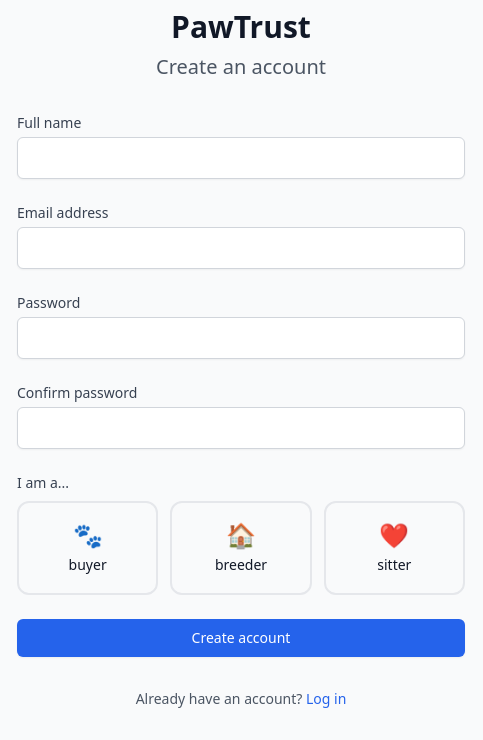
RegisterPage › shows validation errors when submitting empty form
Click the button "Create account": {"x": 241, "y": 638} [17,619,465,657]
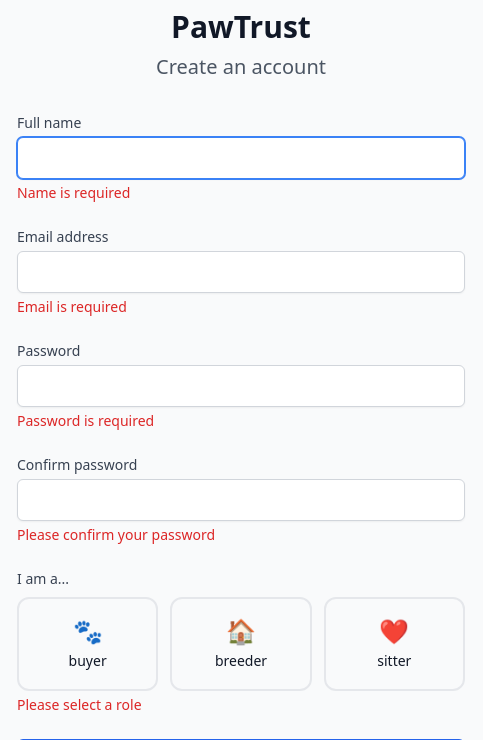
Result: the text "Name is required" is shown at [17,183,130,202]
